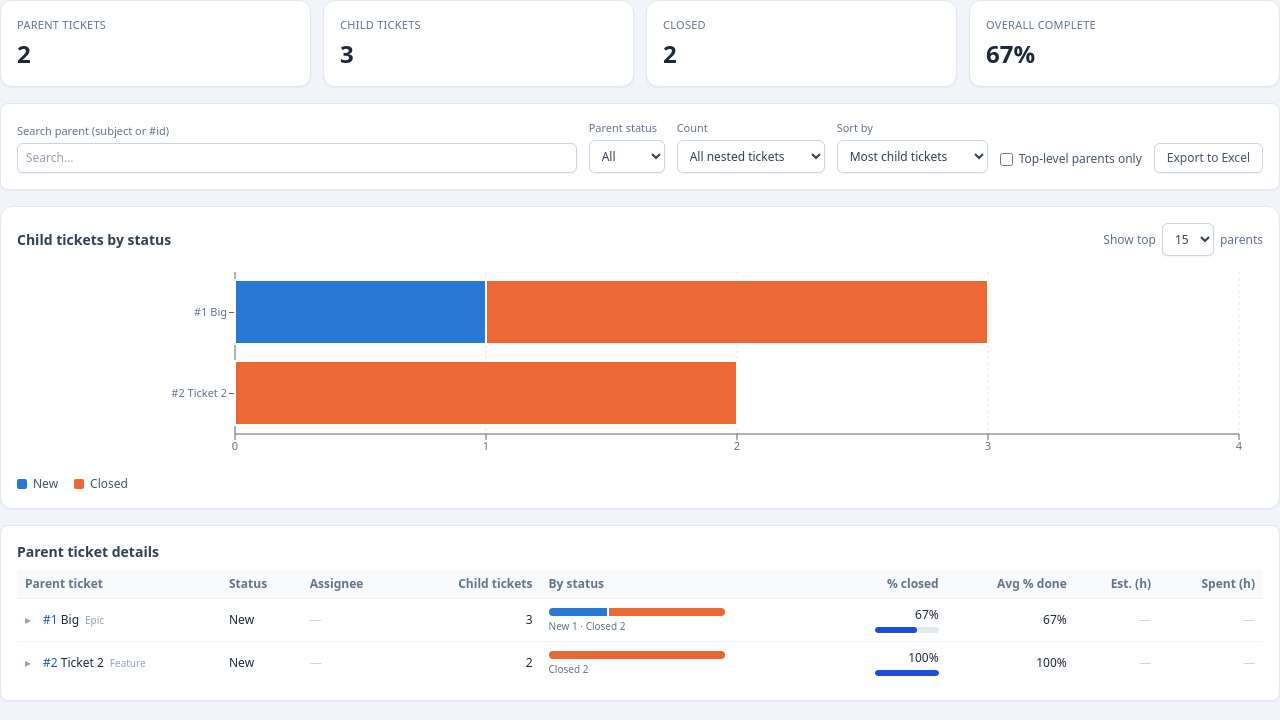
ParentProgressPanel › can count only direct children
Check: the cell "3" is shown, box x1=406 y1=598 x2=541 y2=642
Select "Direct children only" in the dropdown labelled "Count" at (751, 156), box x1=677 y1=140 x2=825 y2=173
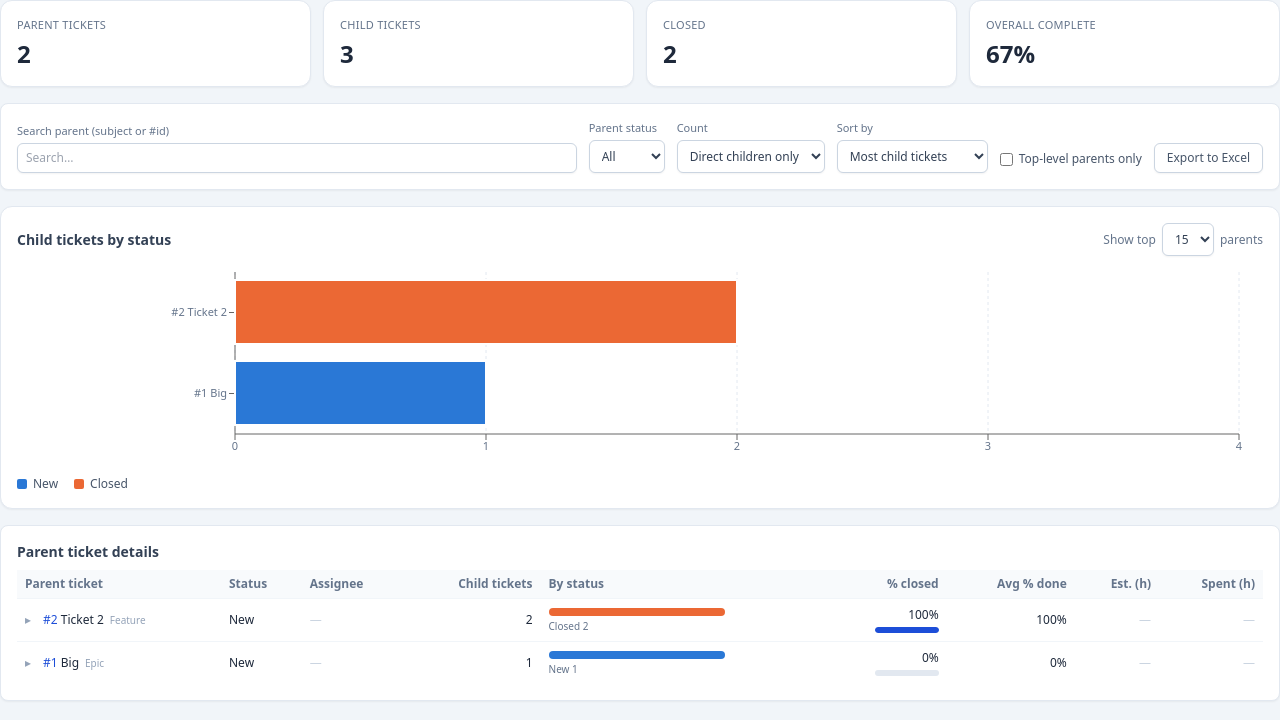
Check: the cell "1" is shown, box x1=406 y1=642 x2=541 y2=684
